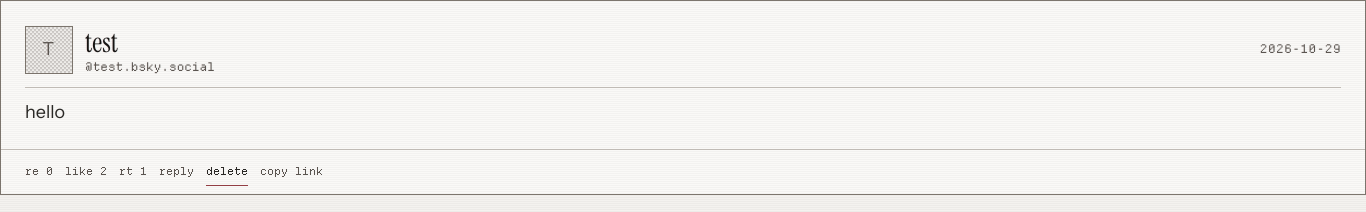
Test: PostCard actions › does not confirm the delete from enter on an in-card control
Later steps or results of the test are not shown.
Step 1. Press d
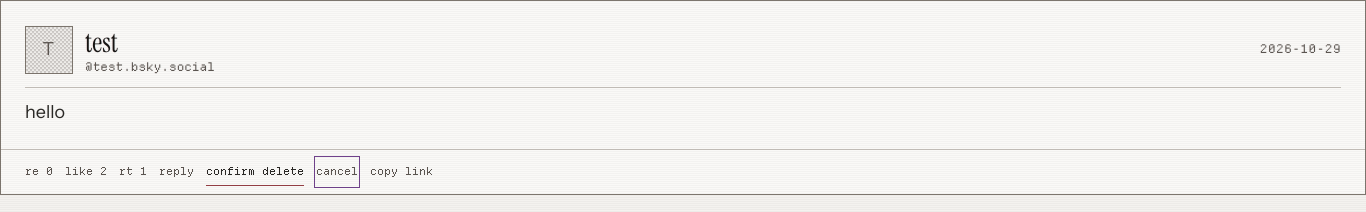
Note: the card must not claim the press, so the control keeps native activation
Step 2. Press Enter in the button "cancel", box [316,158,358,186]
Note: jsdom has no native activation, so the click it would produce is explicit
Step 3. Click the button "cancel" → (337, 172), box [316,158,358,186]
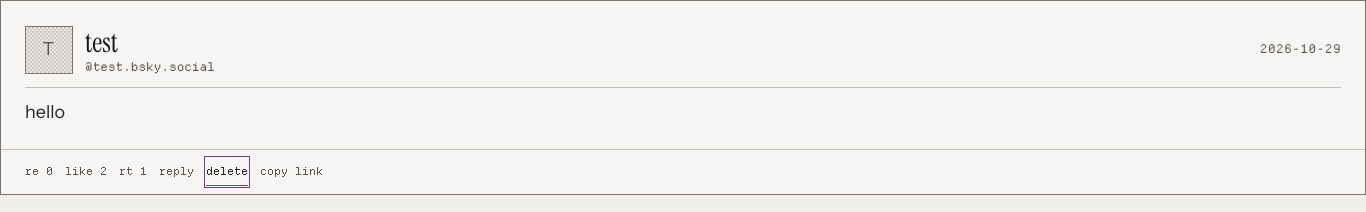
Expected: the button "cancel" is gone
